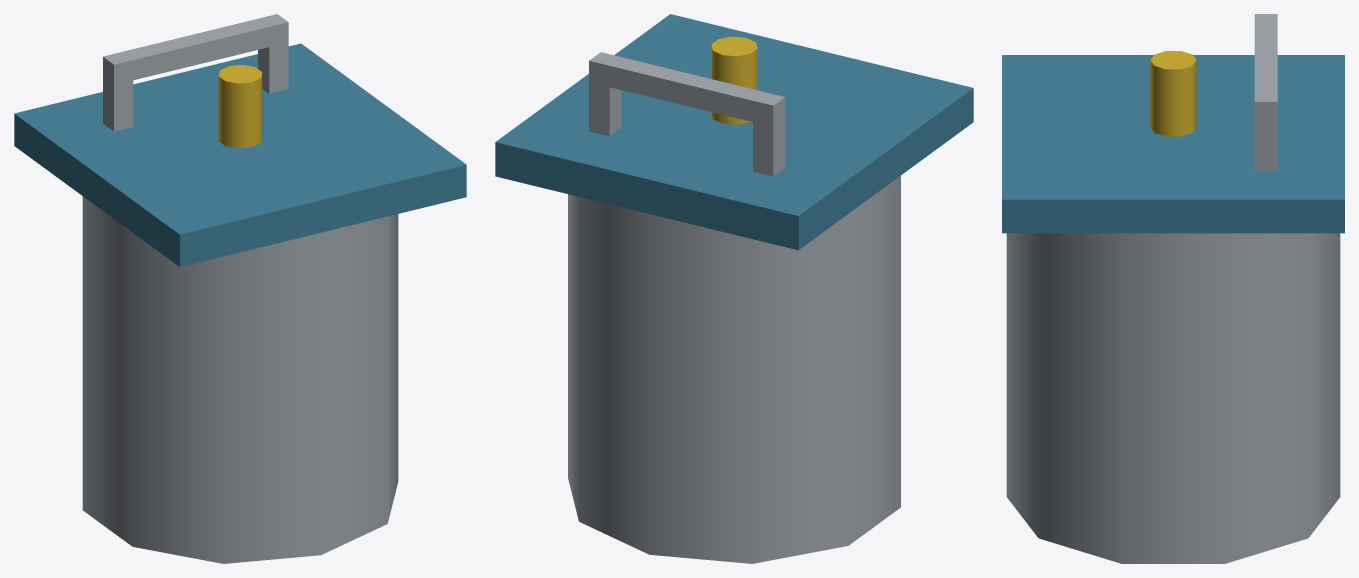
3 renders of one model, left to right at view 1: azimuth 30°, elevation 25°; view 2: azimuth 150°, elevation 25°; view 3: azimuth 270°, elevation 25°, orthographic. The views are drawn at different scales.
Parts seen in each view (by area): view 1: body, lid, handle, inlet, handleleg0, handleleg1; view 2: body, lid, handle, inlet, handleleg0, handleleg1; view 3: body, lid, inlet, handle, handleleg1.
Boxes of the visible parts, left/top/right/bottom form: body: left=82, top=196, right=398, bottom=563; lid: left=14, top=43, right=466, bottom=266; handle: left=103, top=14, right=288, bottom=84; inlet: left=218, top=64, right=262, bottom=148; handleleg0: left=103, top=67, right=133, bottom=131; handleleg1: left=258, top=34, right=288, bottom=93; body: left=568, top=175, right=900, bottom=563; lid: left=495, top=14, right=973, bottom=250; handle: left=589, top=52, right=785, bottom=126; inlet: left=711, top=36, right=757, bottom=124; handleleg0: left=753, top=109, right=785, bottom=176; handleleg1: left=589, top=71, right=621, bottom=136; body: left=1006, top=233, right=1340, bottom=563; lid: left=1002, top=55, right=1344, bottom=233; inlet: left=1150, top=51, right=1196, bottom=136; handle: left=1254, top=14, right=1277, bottom=122; handleleg1: left=1254, top=112, right=1277, bottom=171.
Size of the model in its own units: 0.37 by 0.5225 by 0.37.
